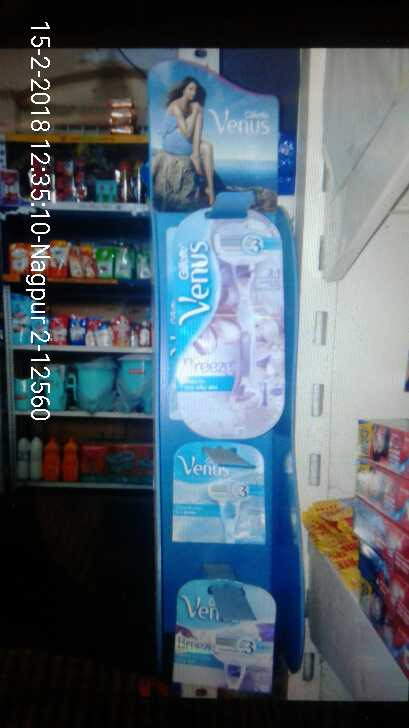venus: (172, 210, 289, 439), (172, 580, 278, 702), (174, 441, 269, 551)
